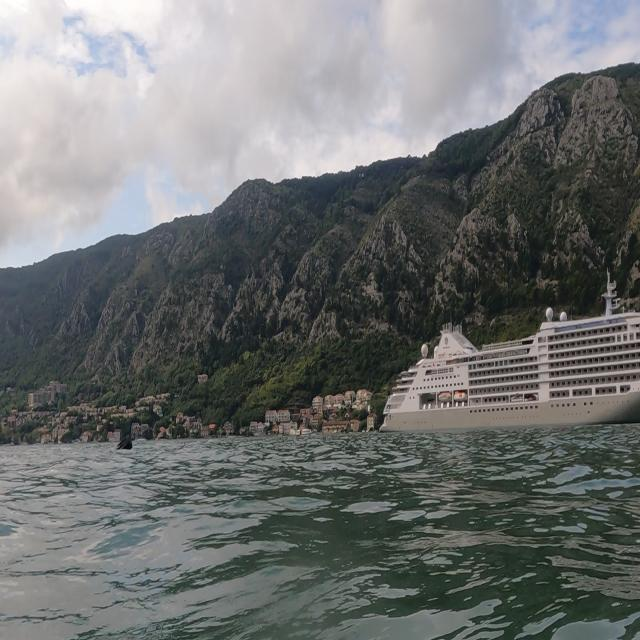boat: (378, 266, 638, 434)
buoy: (110, 429, 142, 465)
